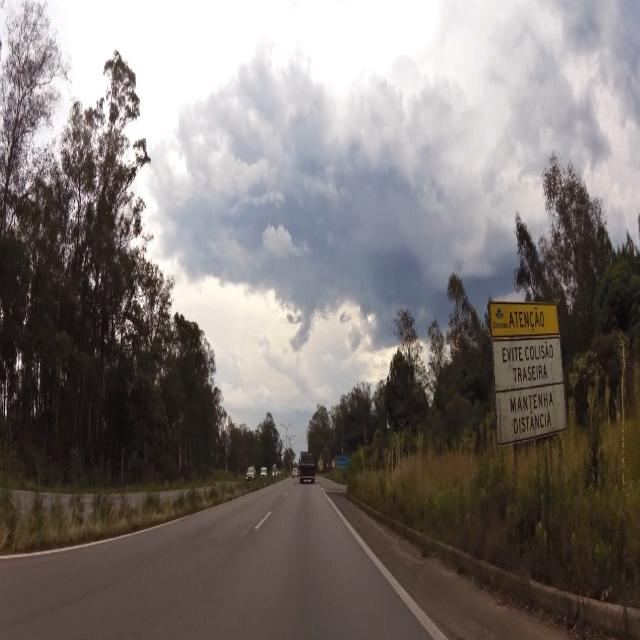E-5: (493, 340, 568, 434)
